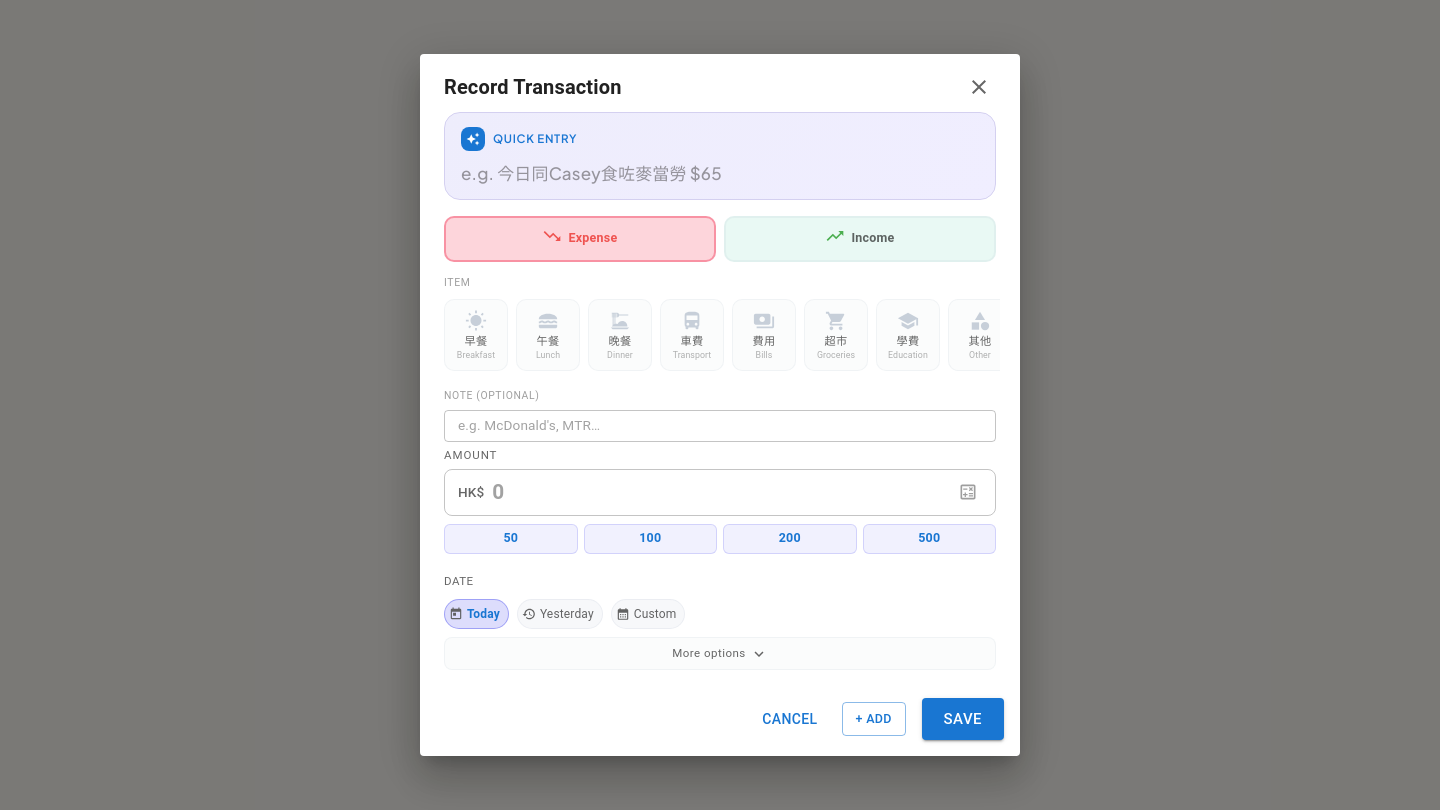
Test: AddExpenseModal › shows error when Save is clicked without description or item
The image size is (1440, 810).
Click the button "Save". click: (963, 719)
box: [922, 698, 1004, 740]
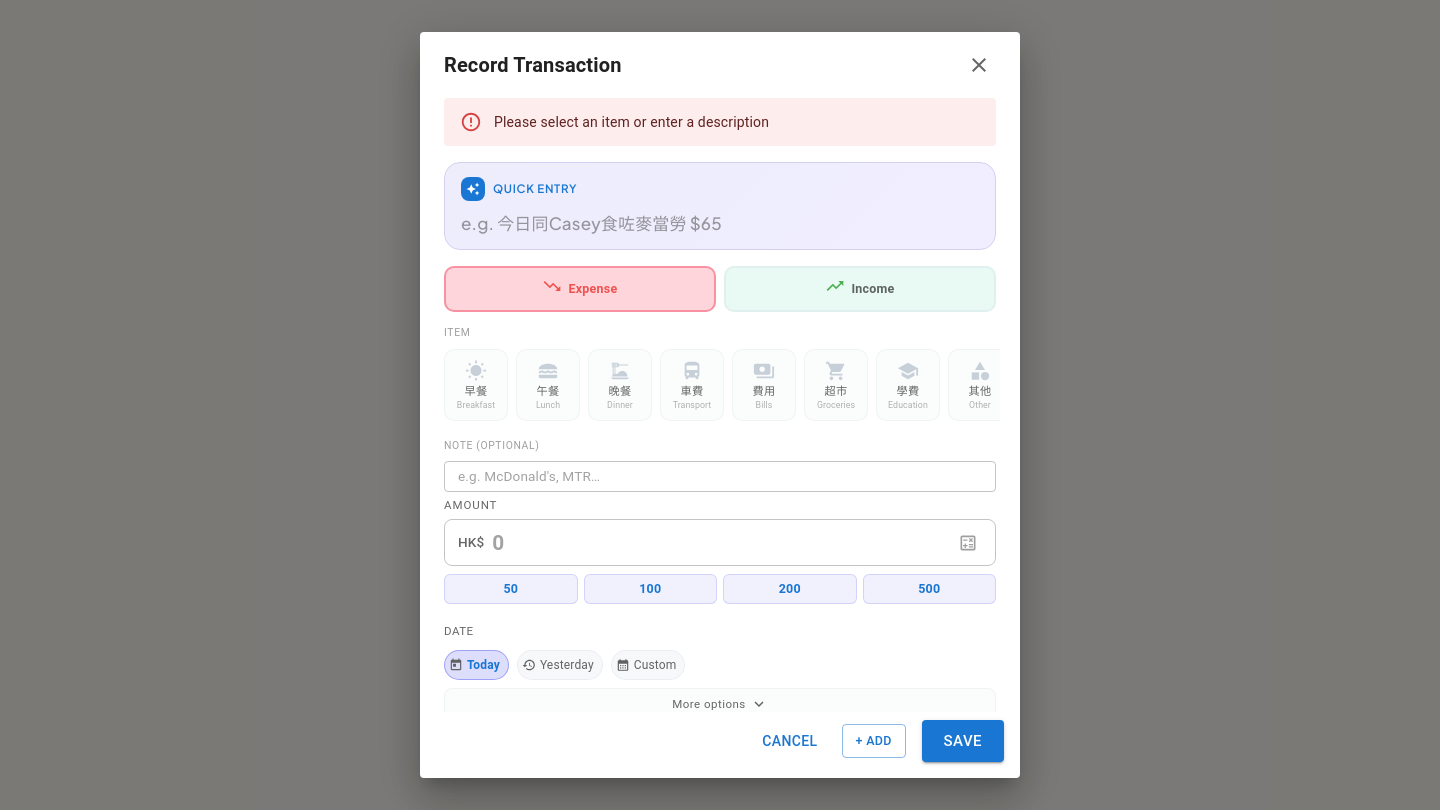
expect the text "Please select an item or enter a description" is shown: met, box [494, 114, 769, 130]
